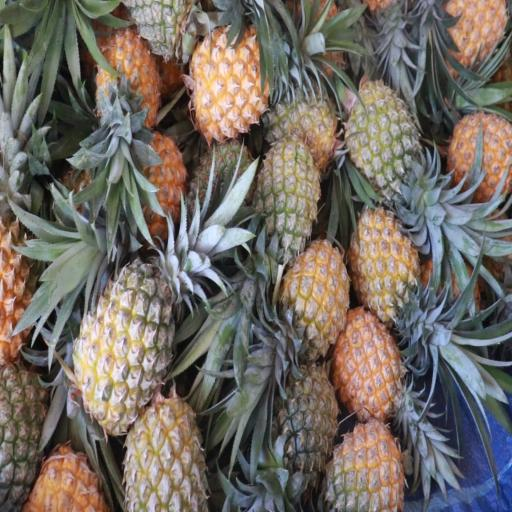------------------------------: (74, 266, 171, 432), (125, 395, 207, 512), (268, 74, 338, 160)
Pineapple - v8 v1: (188, 30, 274, 136), (0, 198, 54, 353), (349, 208, 422, 322), (338, 309, 406, 421), (282, 243, 347, 350), (92, 30, 157, 134), (448, 108, 512, 204), (438, 0, 512, 76), (131, 140, 187, 238)
